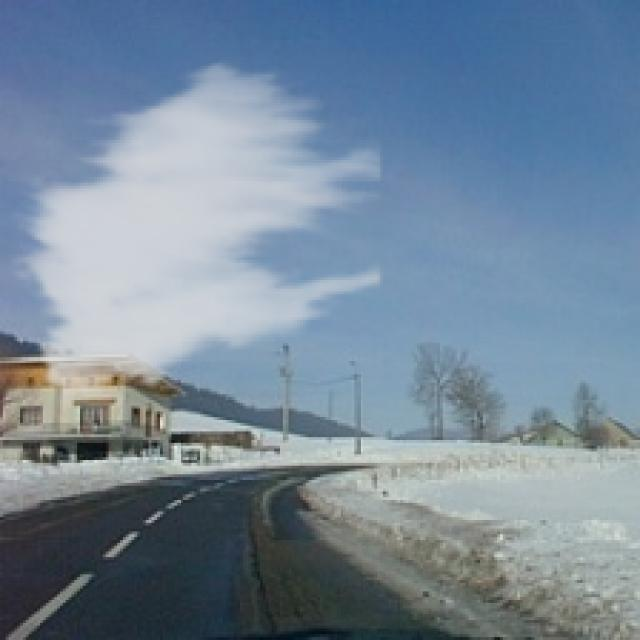Smoke: (8, 52, 383, 414)
